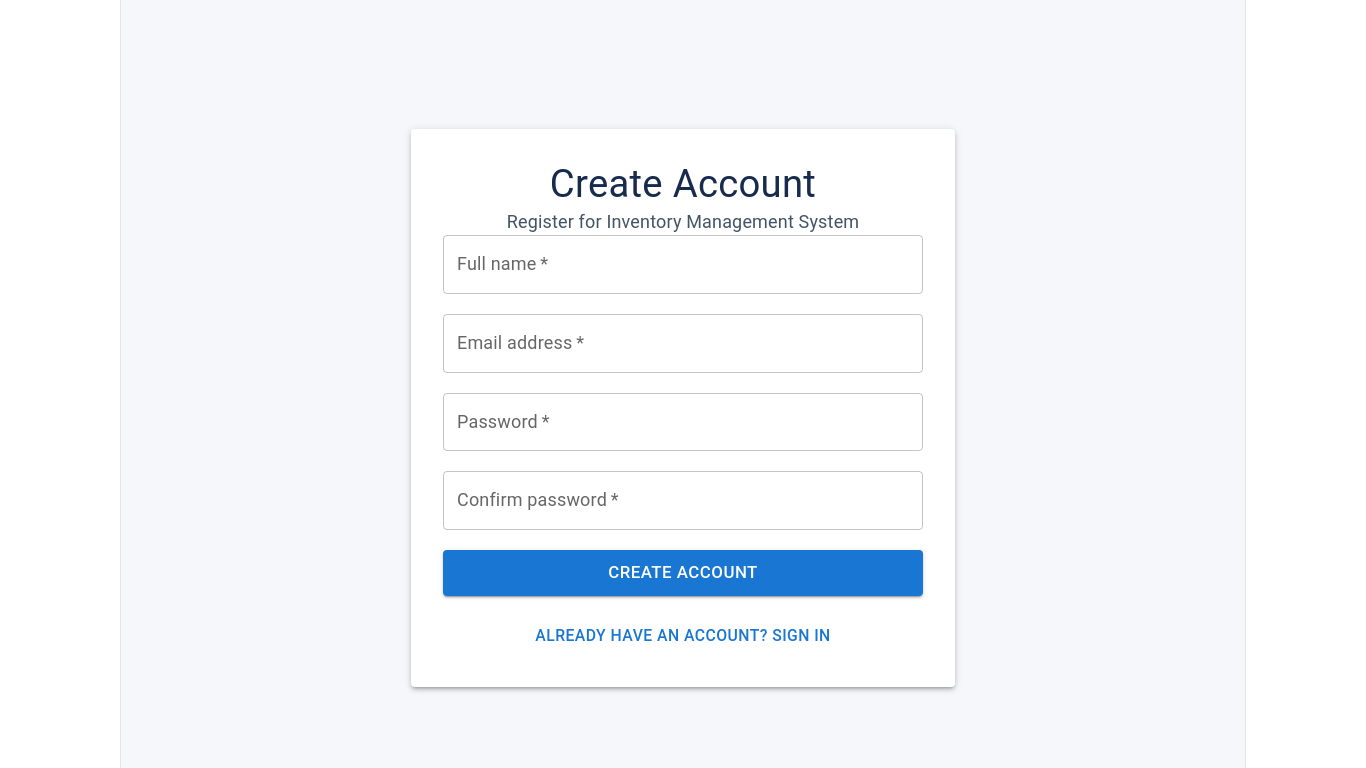
Scenario: Register › shows an error when passwords do not match
Type "Test User" into the field labelled "Full name *".
click(683, 264); type("Test User")  # box x1=443 y1=235 x2=923 y2=294
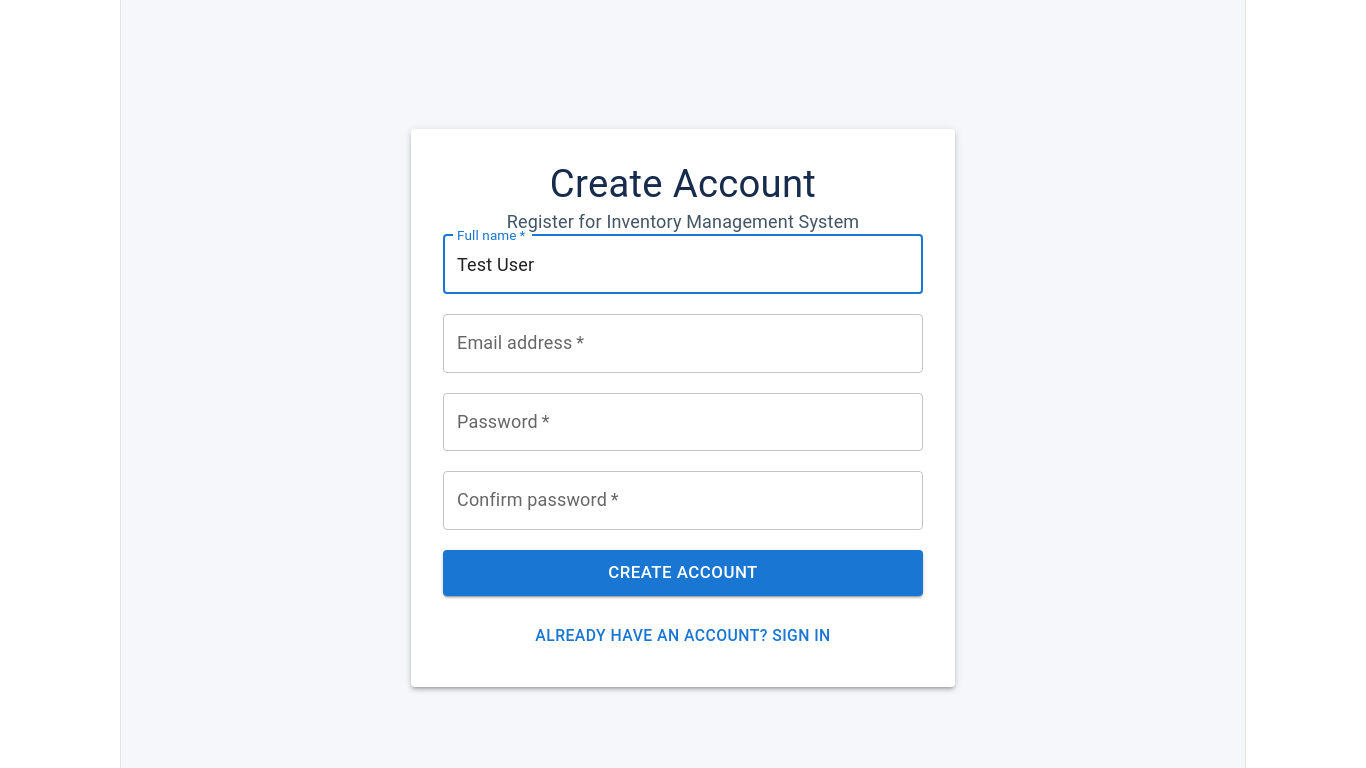
Type "test@example.com" into the field labelled "Email address *".
click(683, 343); type("test@example.com")  # box x1=443 y1=314 x2=923 y2=373
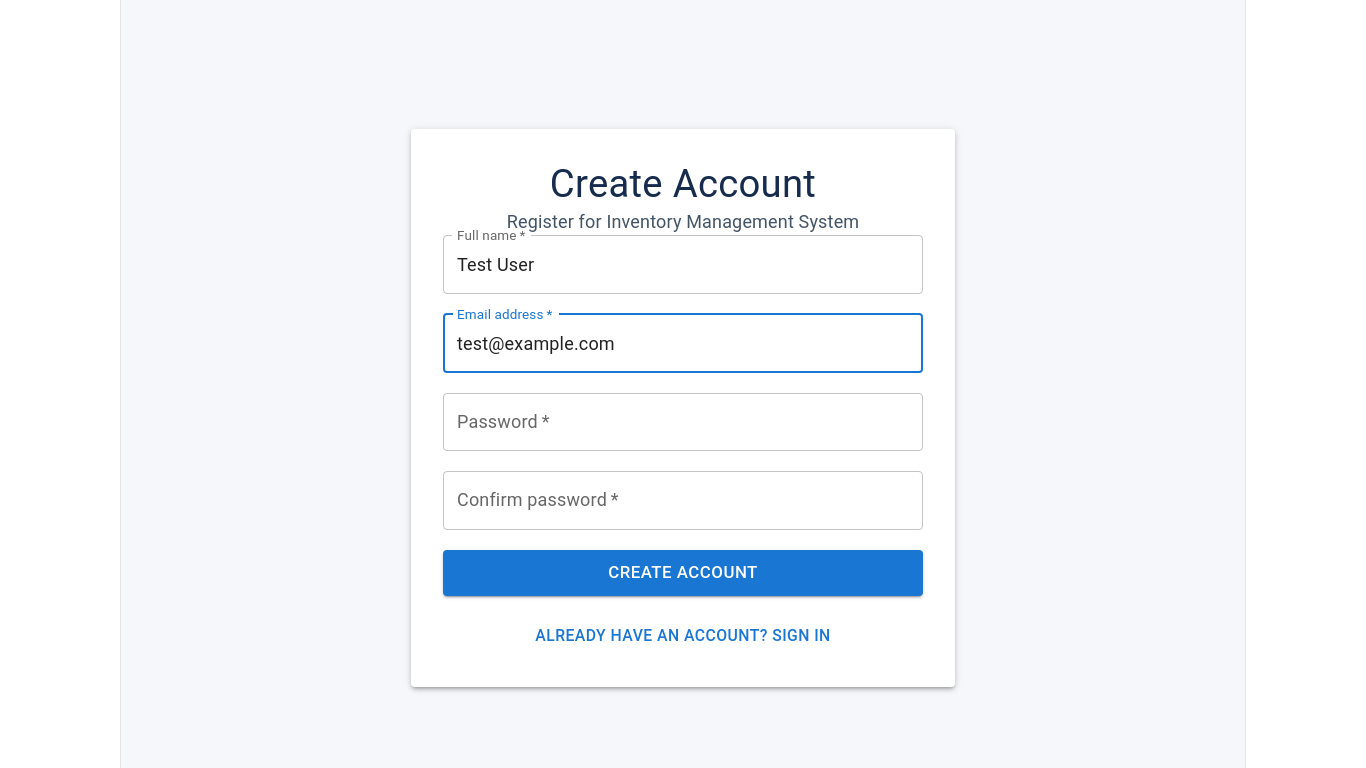
Type "Password@123" into the password field labelled "Password *".
click(683, 422); type("Password@123")  # box x1=443 y1=393 x2=923 y2=452
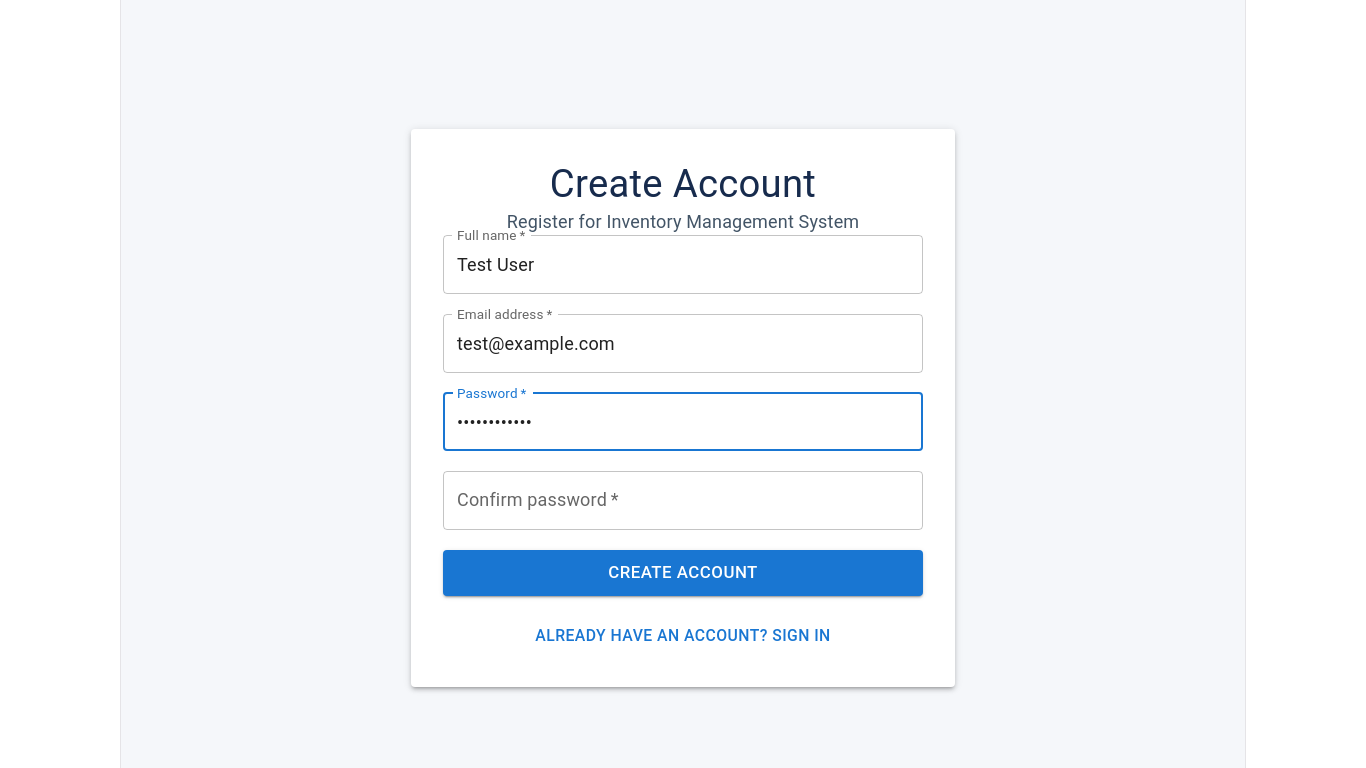
Type "Different@123" into the password field labelled "Confirm password *".
click(683, 501); type("Different@123")  # box x1=443 y1=471 x2=923 y2=530
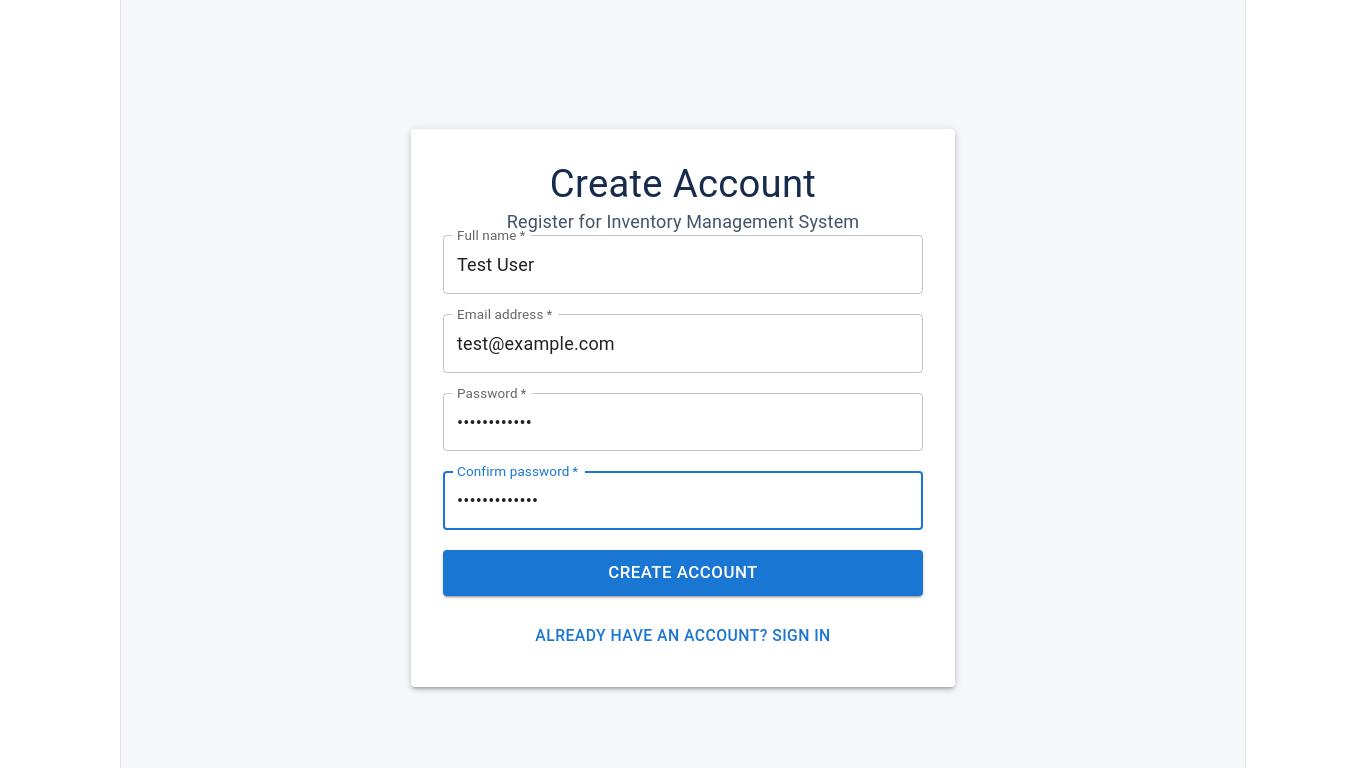
Click the button "Create Account".
click(683, 573)  # box x1=443 y1=550 x2=923 y2=596
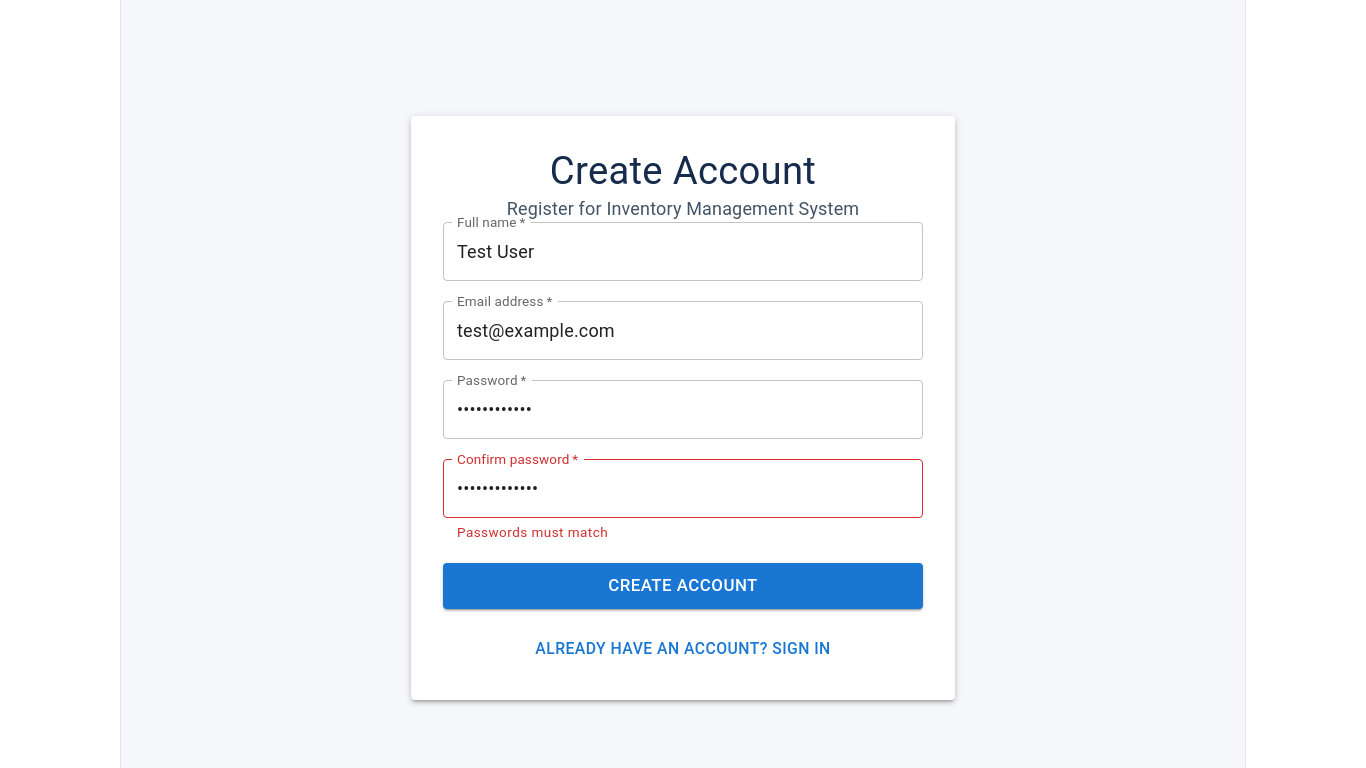
Check: the text "Passwords must match" is shown, box x1=457 y1=524 x2=608 y2=540
